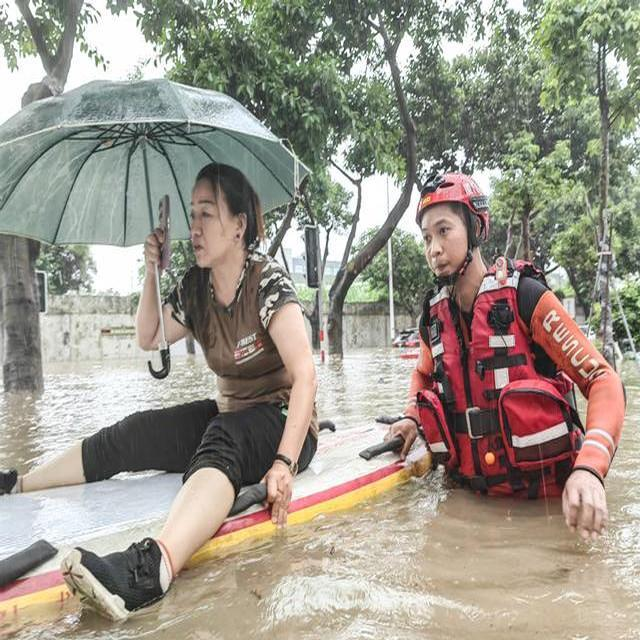Person-RiskLevel3: (0, 161, 319, 612), (367, 159, 631, 563)
